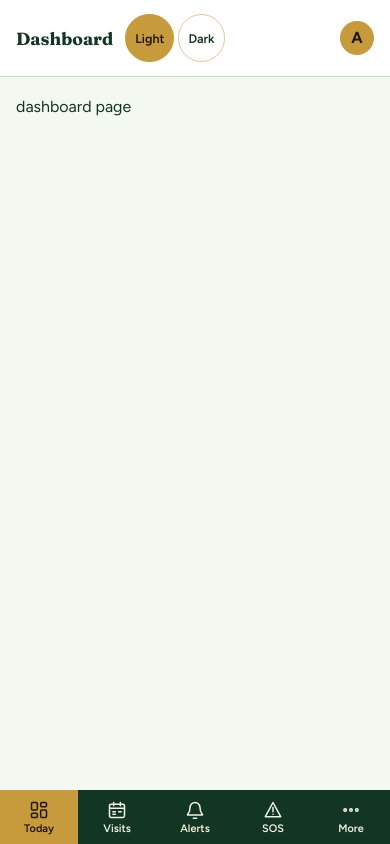
Scenario: AdminLayout phone navigation › puts the reference dashboard/visits/alerts/SOS shortcuts in the bottom nav and the rest under More
Expected: the links read "Today", "Visits", "Alerts", "SOS", in this order, [0,790,78,843]; [103,800,131,834]; [180,800,210,834]; [262,800,284,834]
Click the button "More": (351, 817) [312,790,389,843]
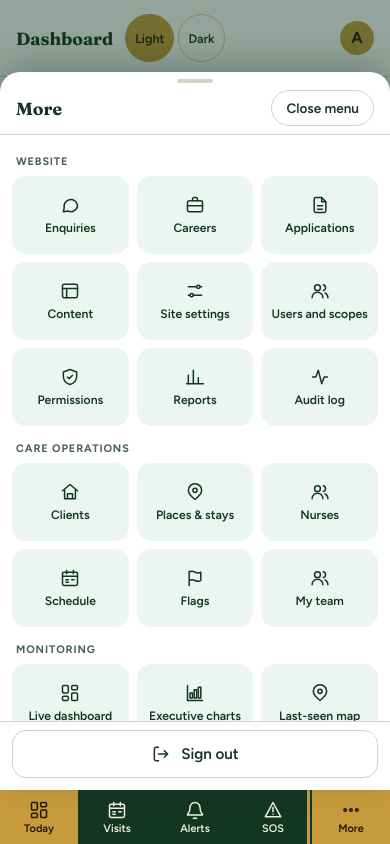
Expected: the button "More" is expanded, [312,790,389,843]
Click the button "Sign out": (195, 754) [12,730,378,778]
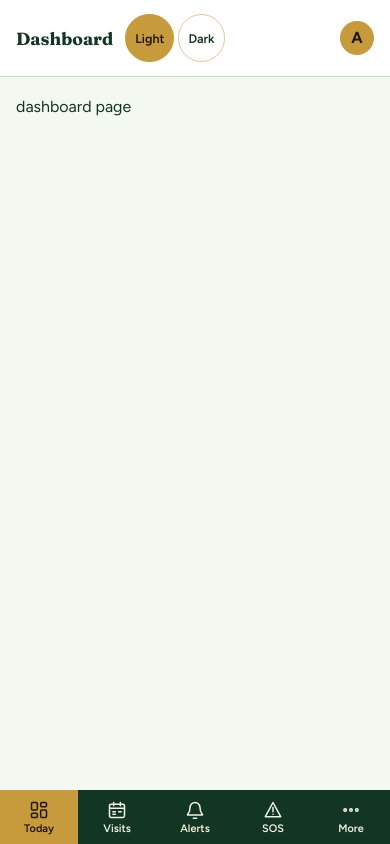
Expected: the dialog with id "admin-more" is gone
